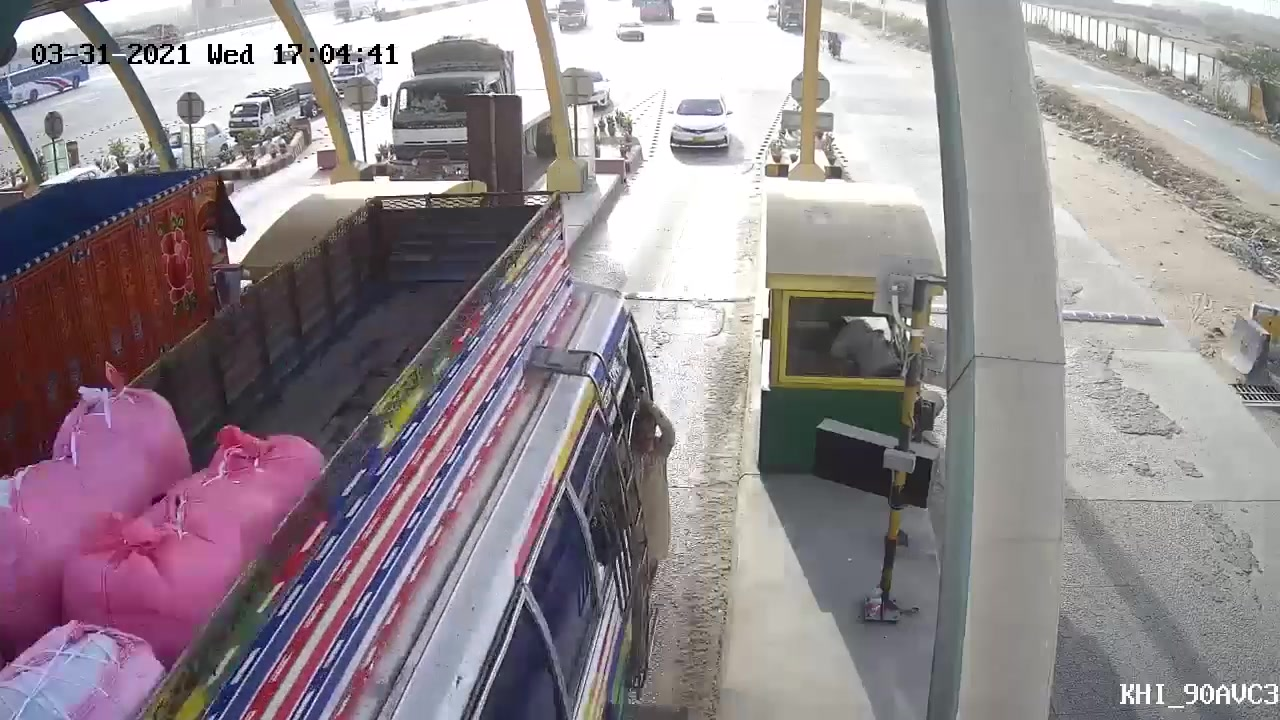F1: (659, 88, 742, 164)
